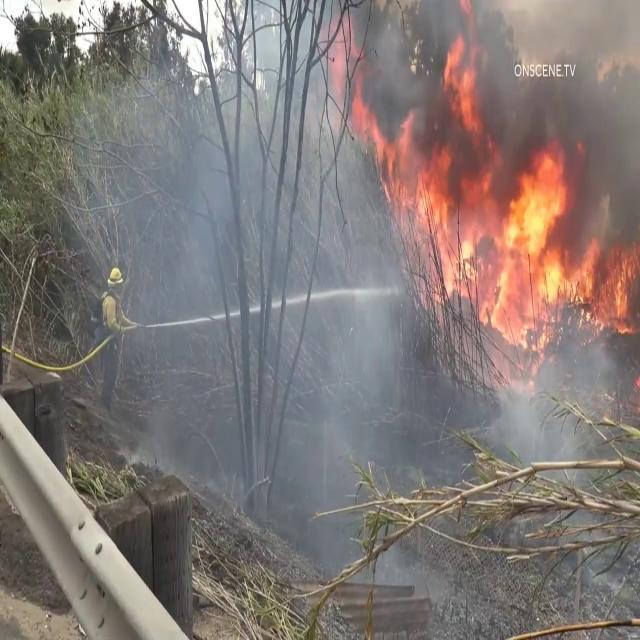Fire: (387, 131, 639, 349)
Smoke: (91, 25, 393, 559)
